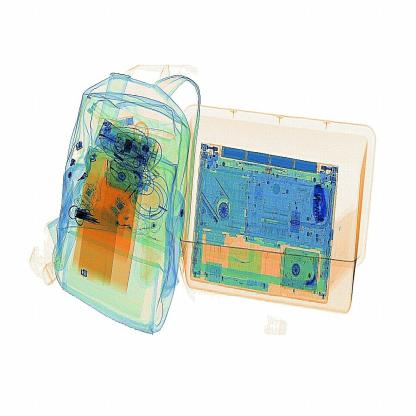scissors: (308, 180, 332, 227)
